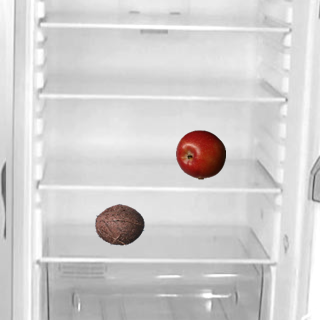Apple Braeburn: (175, 129, 225, 179)
Cocos: (94, 199, 144, 249)
